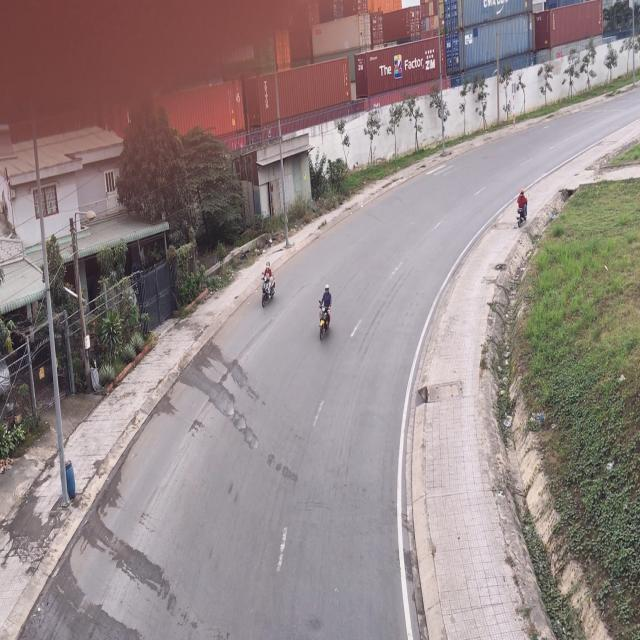motorbike: (316, 286, 332, 344), (262, 261, 280, 311), (515, 185, 529, 230)
